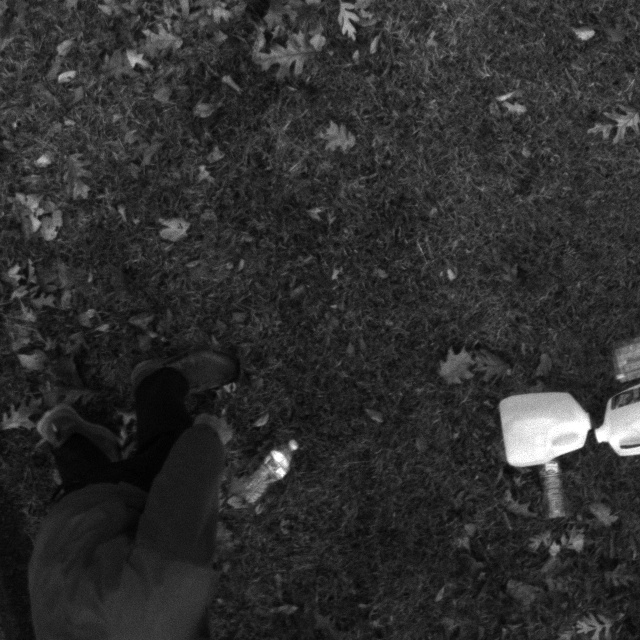bottle: (215, 440, 303, 519), (534, 460, 564, 526)
can: (492, 390, 595, 469)
